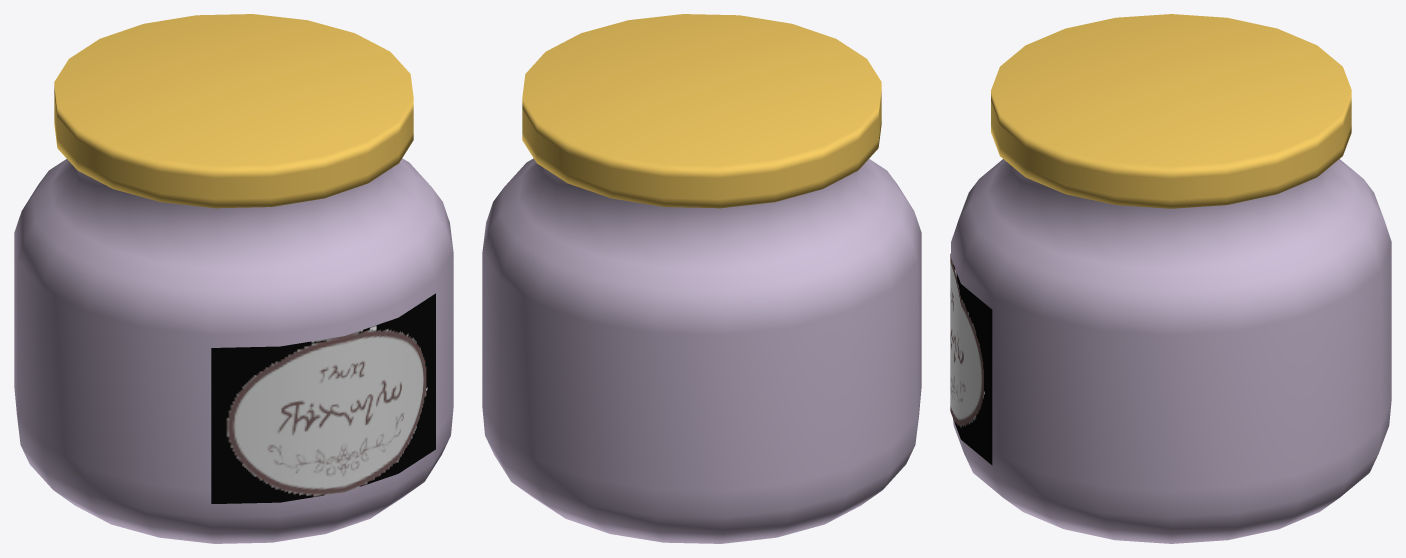
File: pi_berryjam02.gltf
The picture shows the model from 3 angles, left to right: view 1: azimuth 30°, elevation 25°; view 2: azimuth 150°, elevation 25°; view 3: azimuth 270°, elevation 25°; orthographic projection.
Visible parts, largest first — view 1: pi_berryjam02_bottle_outside01_mesh_shape:pi_berryjam02_glas, pi_berryjam02_lid01_mesh_shape:pi_berryjam02_lid, pi_berryjam02_bottle_label01_low_shape:pi_berryjam02_label; view 2: pi_berryjam02_bottle_outside01_mesh_shape:pi_berryjam02_glas, pi_berryjam02_lid01_mesh_shape:pi_berryjam02_lid; view 3: pi_berryjam02_bottle_outside01_mesh_shape:pi_berryjam02_glas, pi_berryjam02_lid01_mesh_shape:pi_berryjam02_lid, pi_berryjam02_bottle_label01_low_shape:pi_berryjam02_label.
Boxes of the visible parts, left/top/right/bottom form: pi_berryjam02_bottle_outside01_mesh_shape:pi_berryjam02_glas: left=14, top=158, right=453, bottom=543; pi_berryjam02_lid01_mesh_shape:pi_berryjam02_lid: left=54, top=14, right=413, bottom=208; pi_berryjam02_bottle_label01_low_shape:pi_berryjam02_label: left=211, top=293, right=435, bottom=503; pi_berryjam02_bottle_outside01_mesh_shape:pi_berryjam02_glas: left=482, top=158, right=921, bottom=543; pi_berryjam02_lid01_mesh_shape:pi_berryjam02_lid: left=522, top=14, right=881, bottom=208; pi_berryjam02_bottle_outside01_mesh_shape:pi_berryjam02_glas: left=951, top=159, right=1391, bottom=543; pi_berryjam02_lid01_mesh_shape:pi_berryjam02_lid: left=991, top=14, right=1351, bottom=208; pi_berryjam02_bottle_label01_low_shape:pi_berryjam02_label: left=950, top=253, right=992, bottom=465.
Size of the model in its own units: 0.0993 by 0.0936 by 0.0995.
5 materials, 5 textured.
